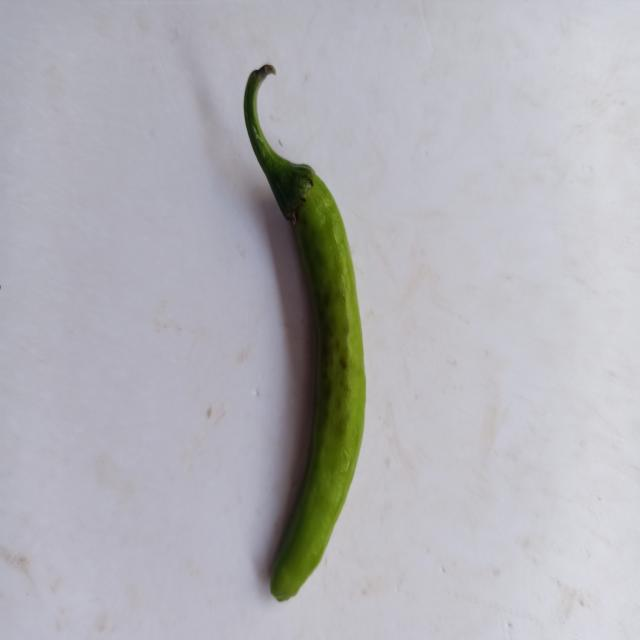Green Chilly: (244, 63, 366, 601)
